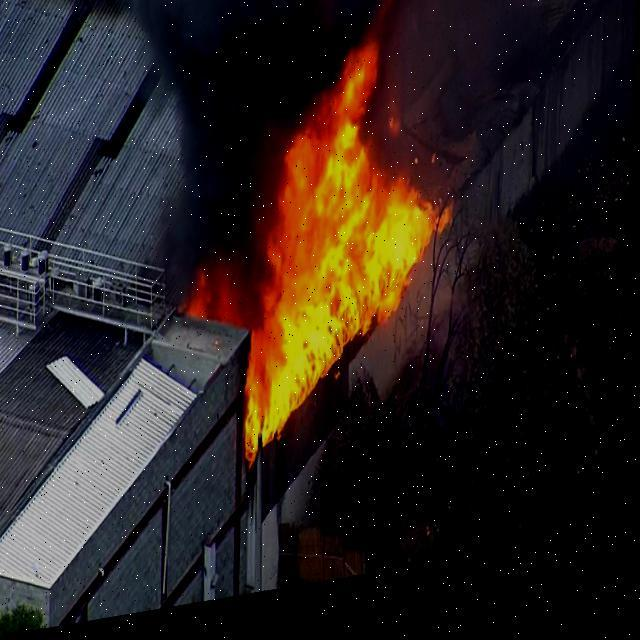Fire: (238, 32, 461, 478), (188, 258, 238, 336)
